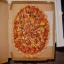pizza: (13, 8, 51, 58)
